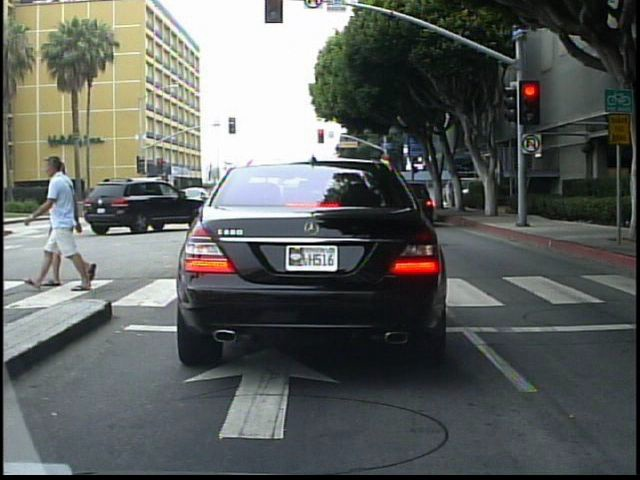person: (38, 150, 103, 295), (51, 151, 80, 291), (443, 178, 455, 212)
